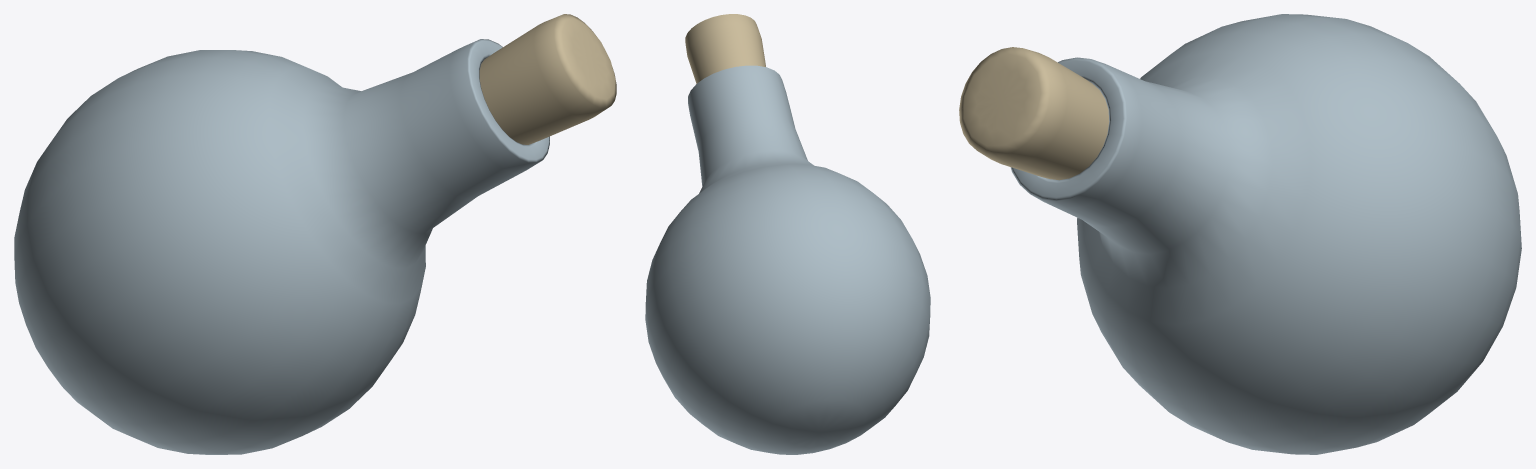
The picture shows the model from 3 angles, left to right: view 1: azimuth 30°, elevation 25°; view 2: azimuth 150°, elevation 25°; view 3: azimuth 270°, elevation 25°; orthographic projection. The views are drawn at different scales.
Parts seen in each view (by area): view 1: D; view 2: D; view 3: D.
Part boxes in pixels (<box>): D: <box>14,14,616,454</box>; D: <box>645,14,930,454</box>; D: <box>959,14,1521,454</box>.
Size of the model in its own units: 1.11 by 1.1 by 1.12.
